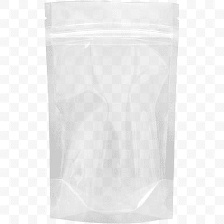glass: (37, 0, 184, 224)
